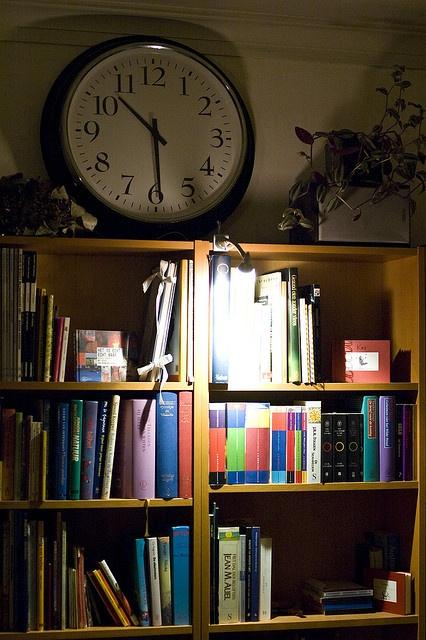Rak: (200, 238, 425, 639), (0, 234, 201, 639)
